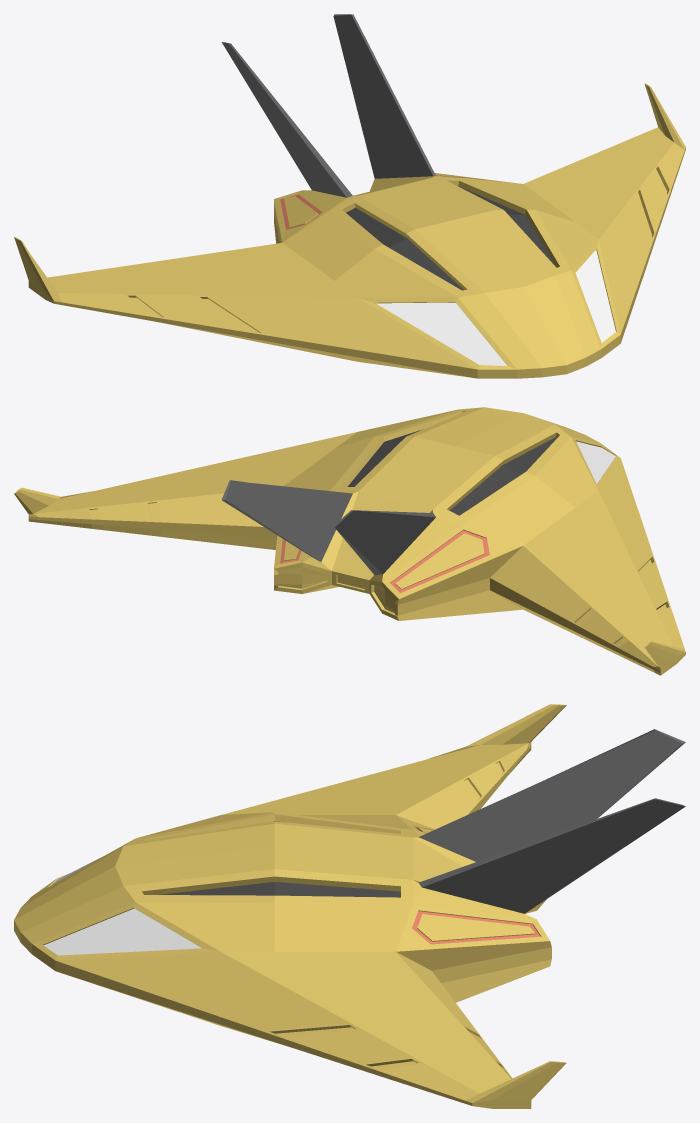
The model's file is ship_22.fbx.
The picture shows the model from 3 angles, top to bottom: view 1: azimuth 30°, elevation 25°; view 2: azimuth 150°, elevation 25°; view 3: azimuth 270°, elevation 25°; orthographic projection. The views are drawn at different scales.
Visible parts, largest first — view 1: ship_22; view 2: ship_22; view 3: ship_22.
Boxes of the visible parts, x1,y1,x2,y2 form: ship_22: (14, 14, 685, 378); ship_22: (14, 407, 685, 675); ship_22: (14, 704, 685, 1108).
Bounding box in the file's own units: 1574 × 430 × 1247.
